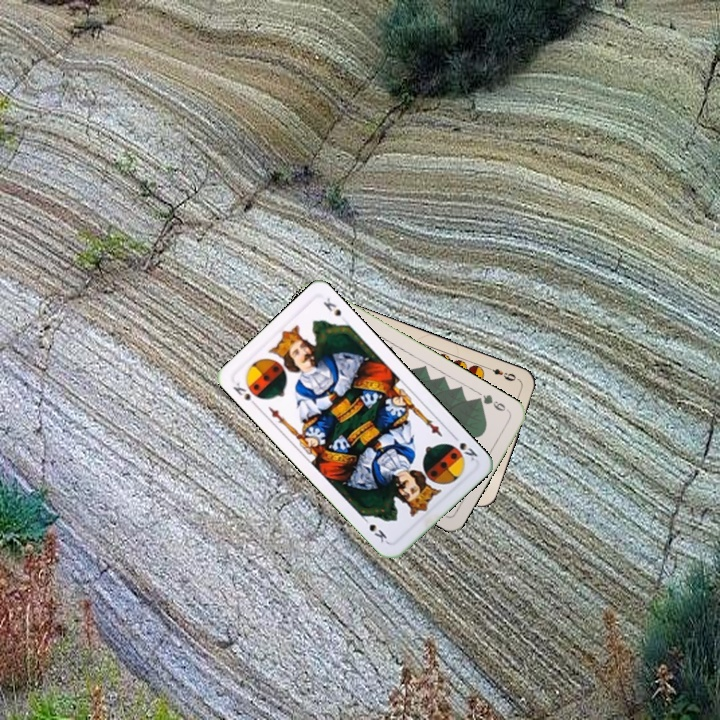E9: (483, 363, 522, 384)
G9: (472, 390, 512, 415)
SK: (448, 430, 480, 463), (229, 378, 261, 410)
